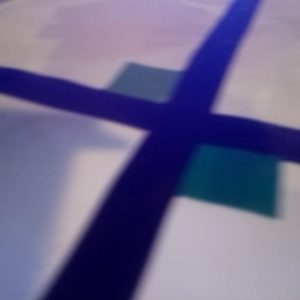bottom_right: (76, 76, 184, 126)
